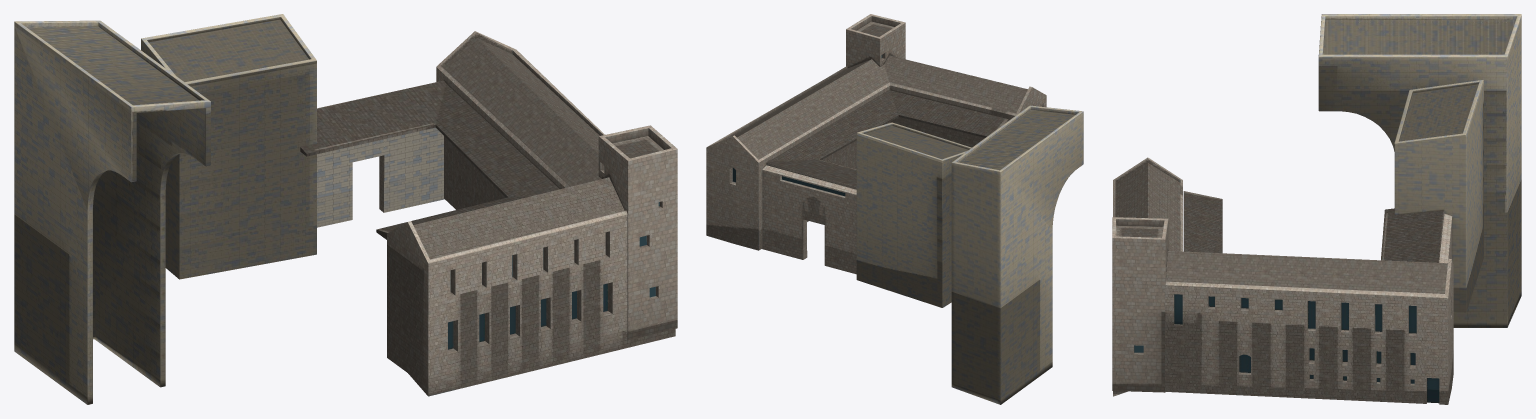
File: Edificio_Archivo_3D_Test.glb
3 renders of one model, left to right at view 1: azimuth 30°, elevation 25°; view 2: azimuth 150°, elevation 25°; view 3: azimuth 270°, elevation 25°, orthographic. The views are drawn at different scales.
Parts seen in each view (by area): view 1: 01, 07, 06, 03, 02, 04; view 2: 07, 01, 06, 03, 04, 02, 05; view 3: 01, 07, 06, 02, 03, 05.
Boxes of the visible parts, bbox=[...] form: 01: bbox=[387, 31, 675, 396]; 07: bbox=[14, 20, 210, 404]; 06: bbox=[141, 14, 316, 279]; 03: bbox=[300, 80, 559, 239]; 02: bbox=[598, 125, 677, 340]; 04: bbox=[317, 127, 444, 227]; 07: bbox=[951, 105, 1083, 404]; 01: bbox=[706, 55, 1046, 250]; 06: bbox=[856, 122, 971, 307]; 03: bbox=[766, 90, 1008, 189]; 04: bbox=[762, 171, 856, 274]; 02: bbox=[846, 14, 905, 67]; 05: bbox=[762, 165, 856, 195]; 01: bbox=[1113, 157, 1453, 404]; 07: bbox=[1318, 14, 1521, 327]; 06: bbox=[1394, 80, 1483, 312]; 02: bbox=[1112, 217, 1168, 392]; 03: bbox=[1183, 191, 1444, 262]; 05: bbox=[1439, 213, 1452, 263].
Bounding box in the file's own units: 1.07 × 0.7325 × 0.9656.
Materials: 7 (7 with a texture image).
